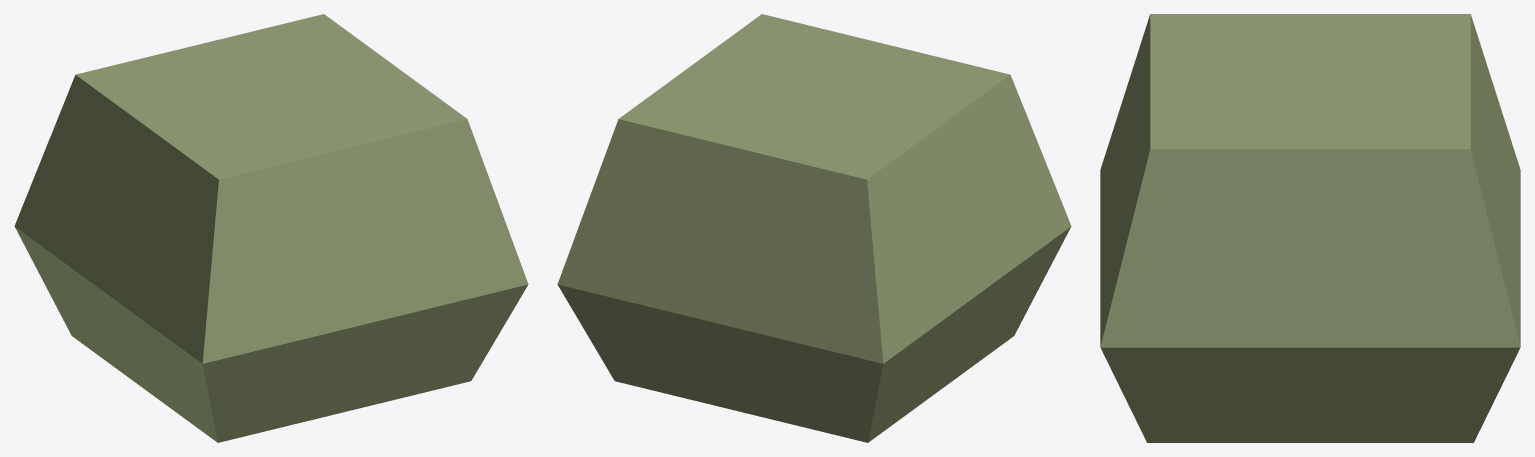
File: bush top graphic.fbx
The picture shows the model from 3 angles, left to right: view 1: azimuth 30°, elevation 25°; view 2: azimuth 150°, elevation 25°; view 3: azimuth 270°, elevation 25°; orthographic projection. The views are drawn at different scales.
Visible parts, largest first — view 1: bush top graphic; view 2: bush top graphic; view 3: bush top graphic.
Part boxes in pixels (x1,y1,x2,y2): bush top graphic: (14,14,528,442); bush top graphic: (557,14,1071,442); bush top graphic: (1100,14,1520,442).
Size of the model in its own units: 1.59 by 1.22 by 1.59.
Materials: 1 (1 with a texture image).
